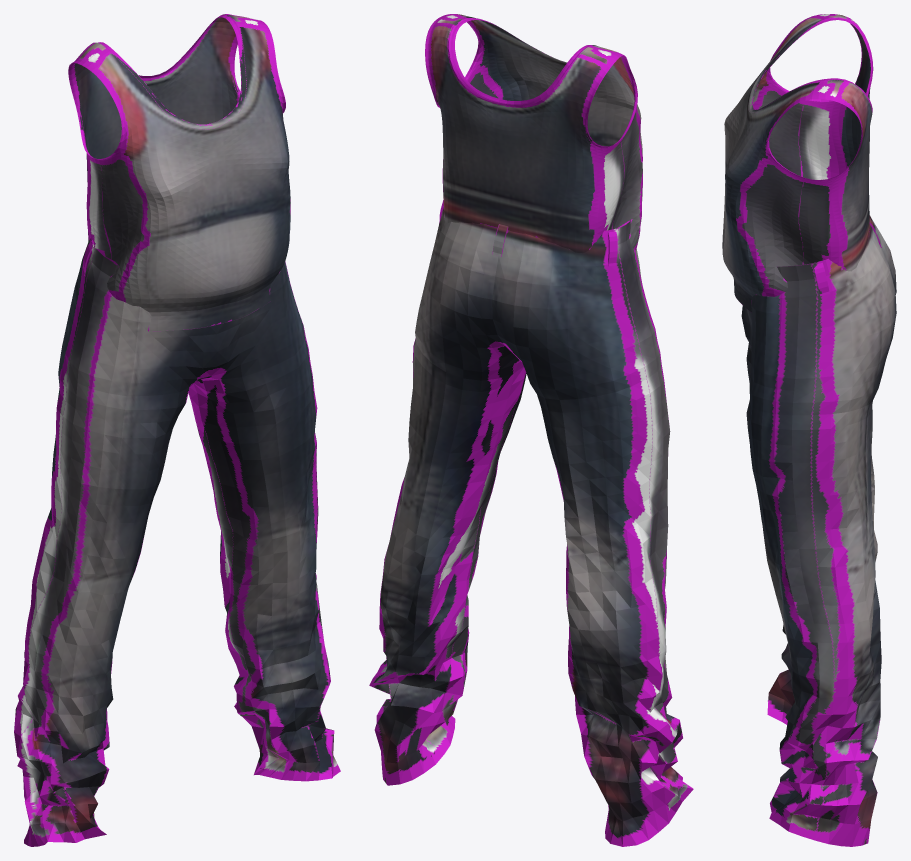
The picture shows the model from 3 angles, left to right: view 1: azimuth 30°, elevation 25°; view 2: azimuth 150°, elevation 25°; view 3: azimuth 270°, elevation 25°; orthographic projection. The views are drawn at different scales.
Size of the model in its own units: 0.3239 by 0.8028 by 0.1701.
Materials: 1 (1 with a texture image).
